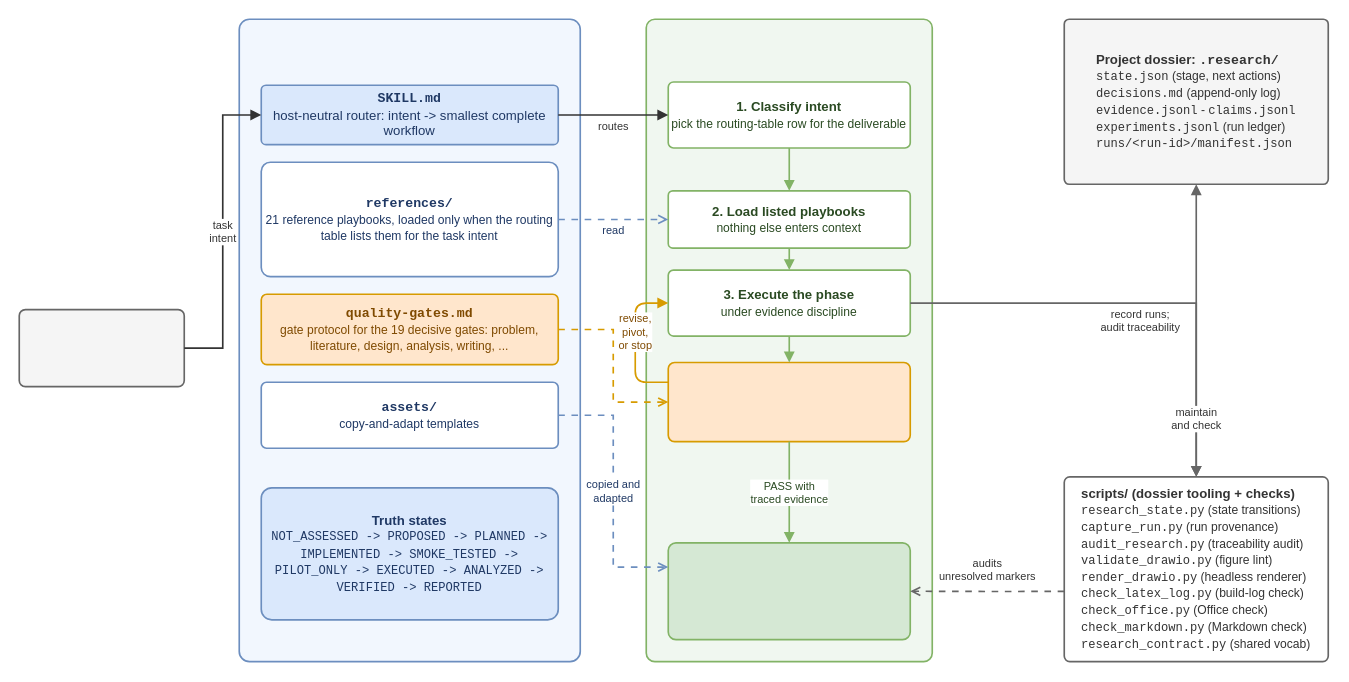
The diagram is 1349 pixels wide and 682 high, and some of its shapes have lost their labels. Here are the shapes that lost their labels. From the top down, the box of each, then its label:
(18, 308, 185, 387): Research-shaped task idea, proposal, study, manuscript, review
(238, 18, 581, 662): Installed skill package (read on demand)
(645, 18, 933, 662): Host agent loop any Agent Skills-compatible runtime
(667, 361, 911, 442): 4. Gate verdict PASS - CONDITIONAL - FAIL - BLOCKED - NOT_ASSESSED
(667, 542, 911, 640): Deliverables proposal - experiment plan - manuscript - figure - slides - review
